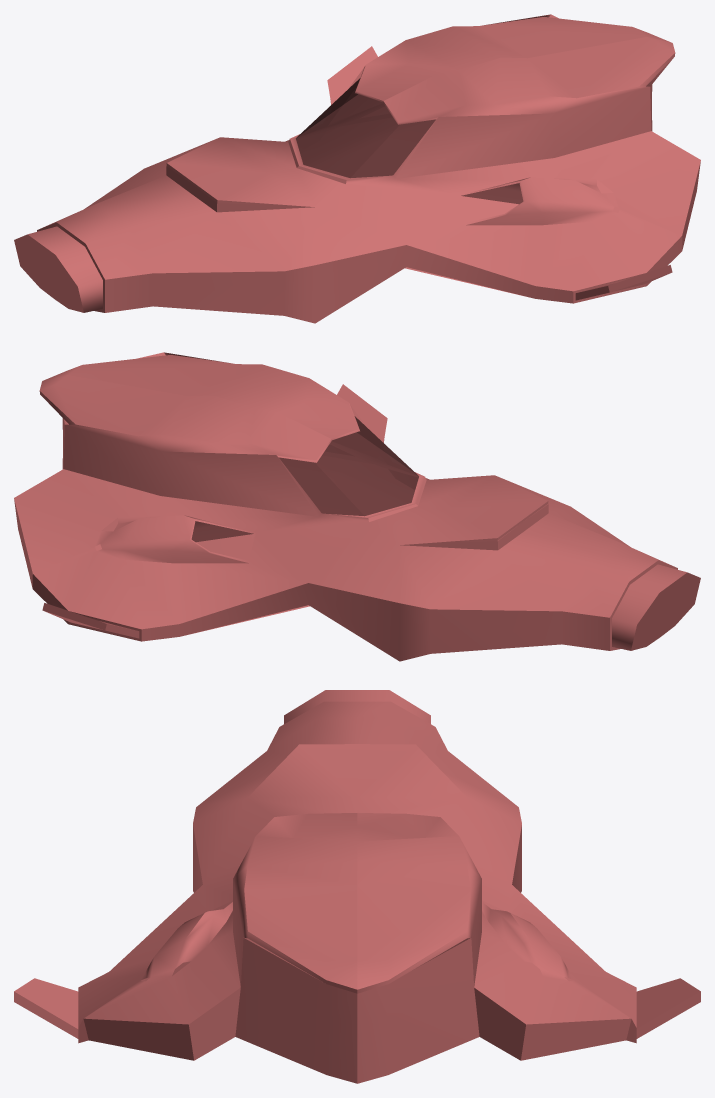
Rendered from Nav_Red.fbx.
3 renders of one model, top to bottom at view 1: azimuth 30°, elevation 25°; view 2: azimuth 150°, elevation 25°; view 3: azimuth 270°, elevation 25°, orthographic. The views are drawn at different scales.
Parts seen in each view (by area): view 1: Nav_Red; view 2: Nav_Red; view 3: Nav_Red.
Boxes of the visible parts, bbox=[...] form: Nav_Red: bbox=[14, 14, 700, 323]; Nav_Red: bbox=[14, 352, 700, 661]; Nav_Red: bbox=[14, 690, 700, 1083].
Size of the model in its own units: 5.42 by 1.24 by 4.44.
